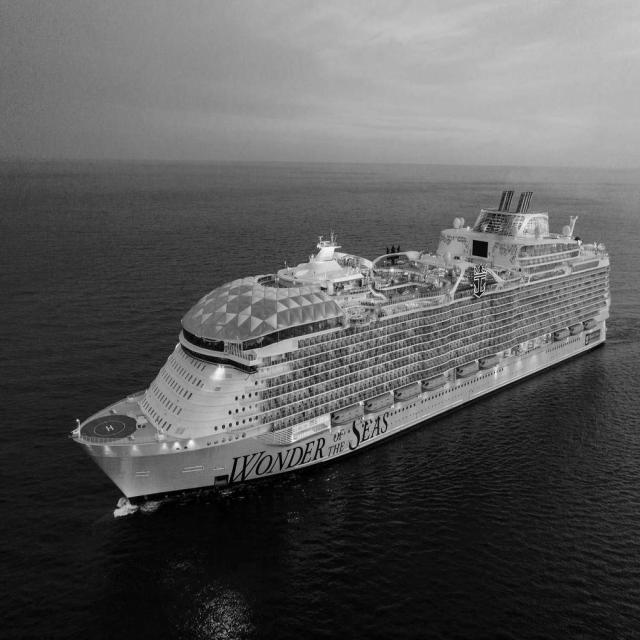Cruise Ship: (62, 182, 616, 540)
